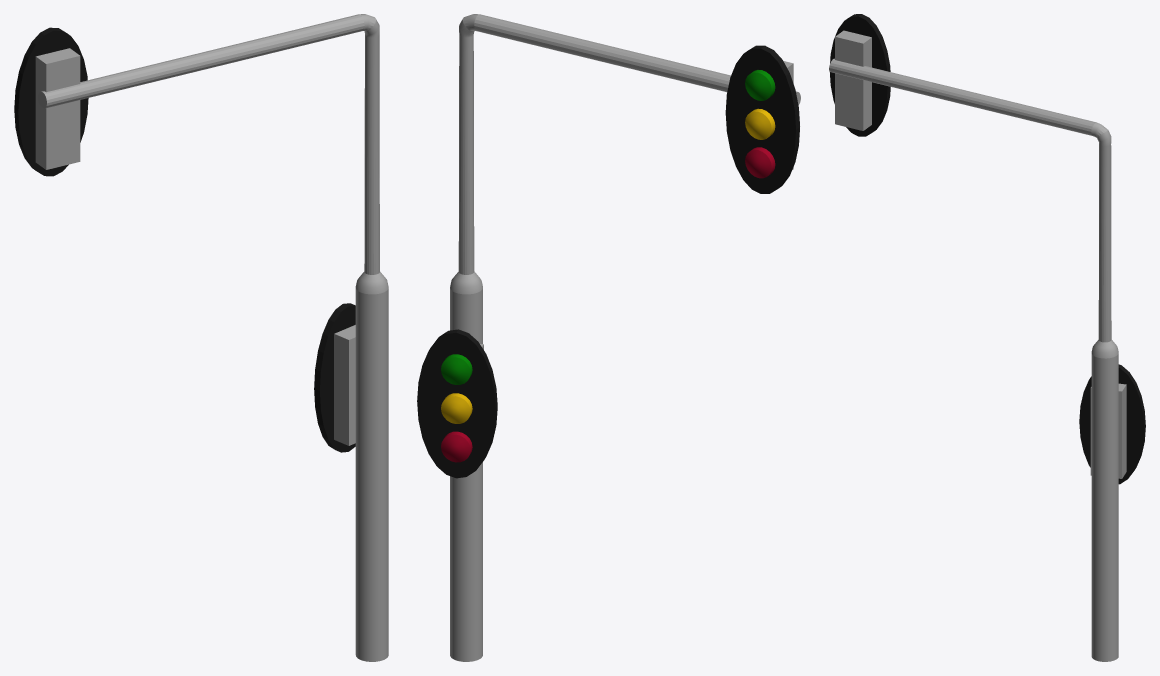
The model's file is Stoplicht.fbx.
3 views of the same model, side by side, from view 1: azimuth 30°, elevation 25°; view 2: azimuth 150°, elevation 25°; view 3: azimuth 330°, elevation 25° (orthographic). The views are drawn at different scales.
Parts seen in each view (by area): view 1: pCylinder1, pCylinder6, pCylinder7; view 2: pCylinder1, pCylinder7, pCylinder6; view 3: pCylinder1, pCylinder6, pCylinder7.
Part boxes in pixels (box(x1,y1,x2,y2)): pCylinder1: box(38, 14, 388, 661); pCylinder6: box(14, 27, 88, 176); pCylinder7: box(314, 303, 355, 452); pCylinder1: box(450, 14, 800, 661); pCylinder7: box(417, 329, 497, 478); pCylinder6: box(725, 45, 799, 193); pCylinder1: box(829, 58, 1118, 661); pCylinder6: box(830, 14, 890, 136); pCylinder7: box(1079, 364, 1145, 484).
Bounding box in the file's own units: 29.54 × 52.8 × 4.74.
